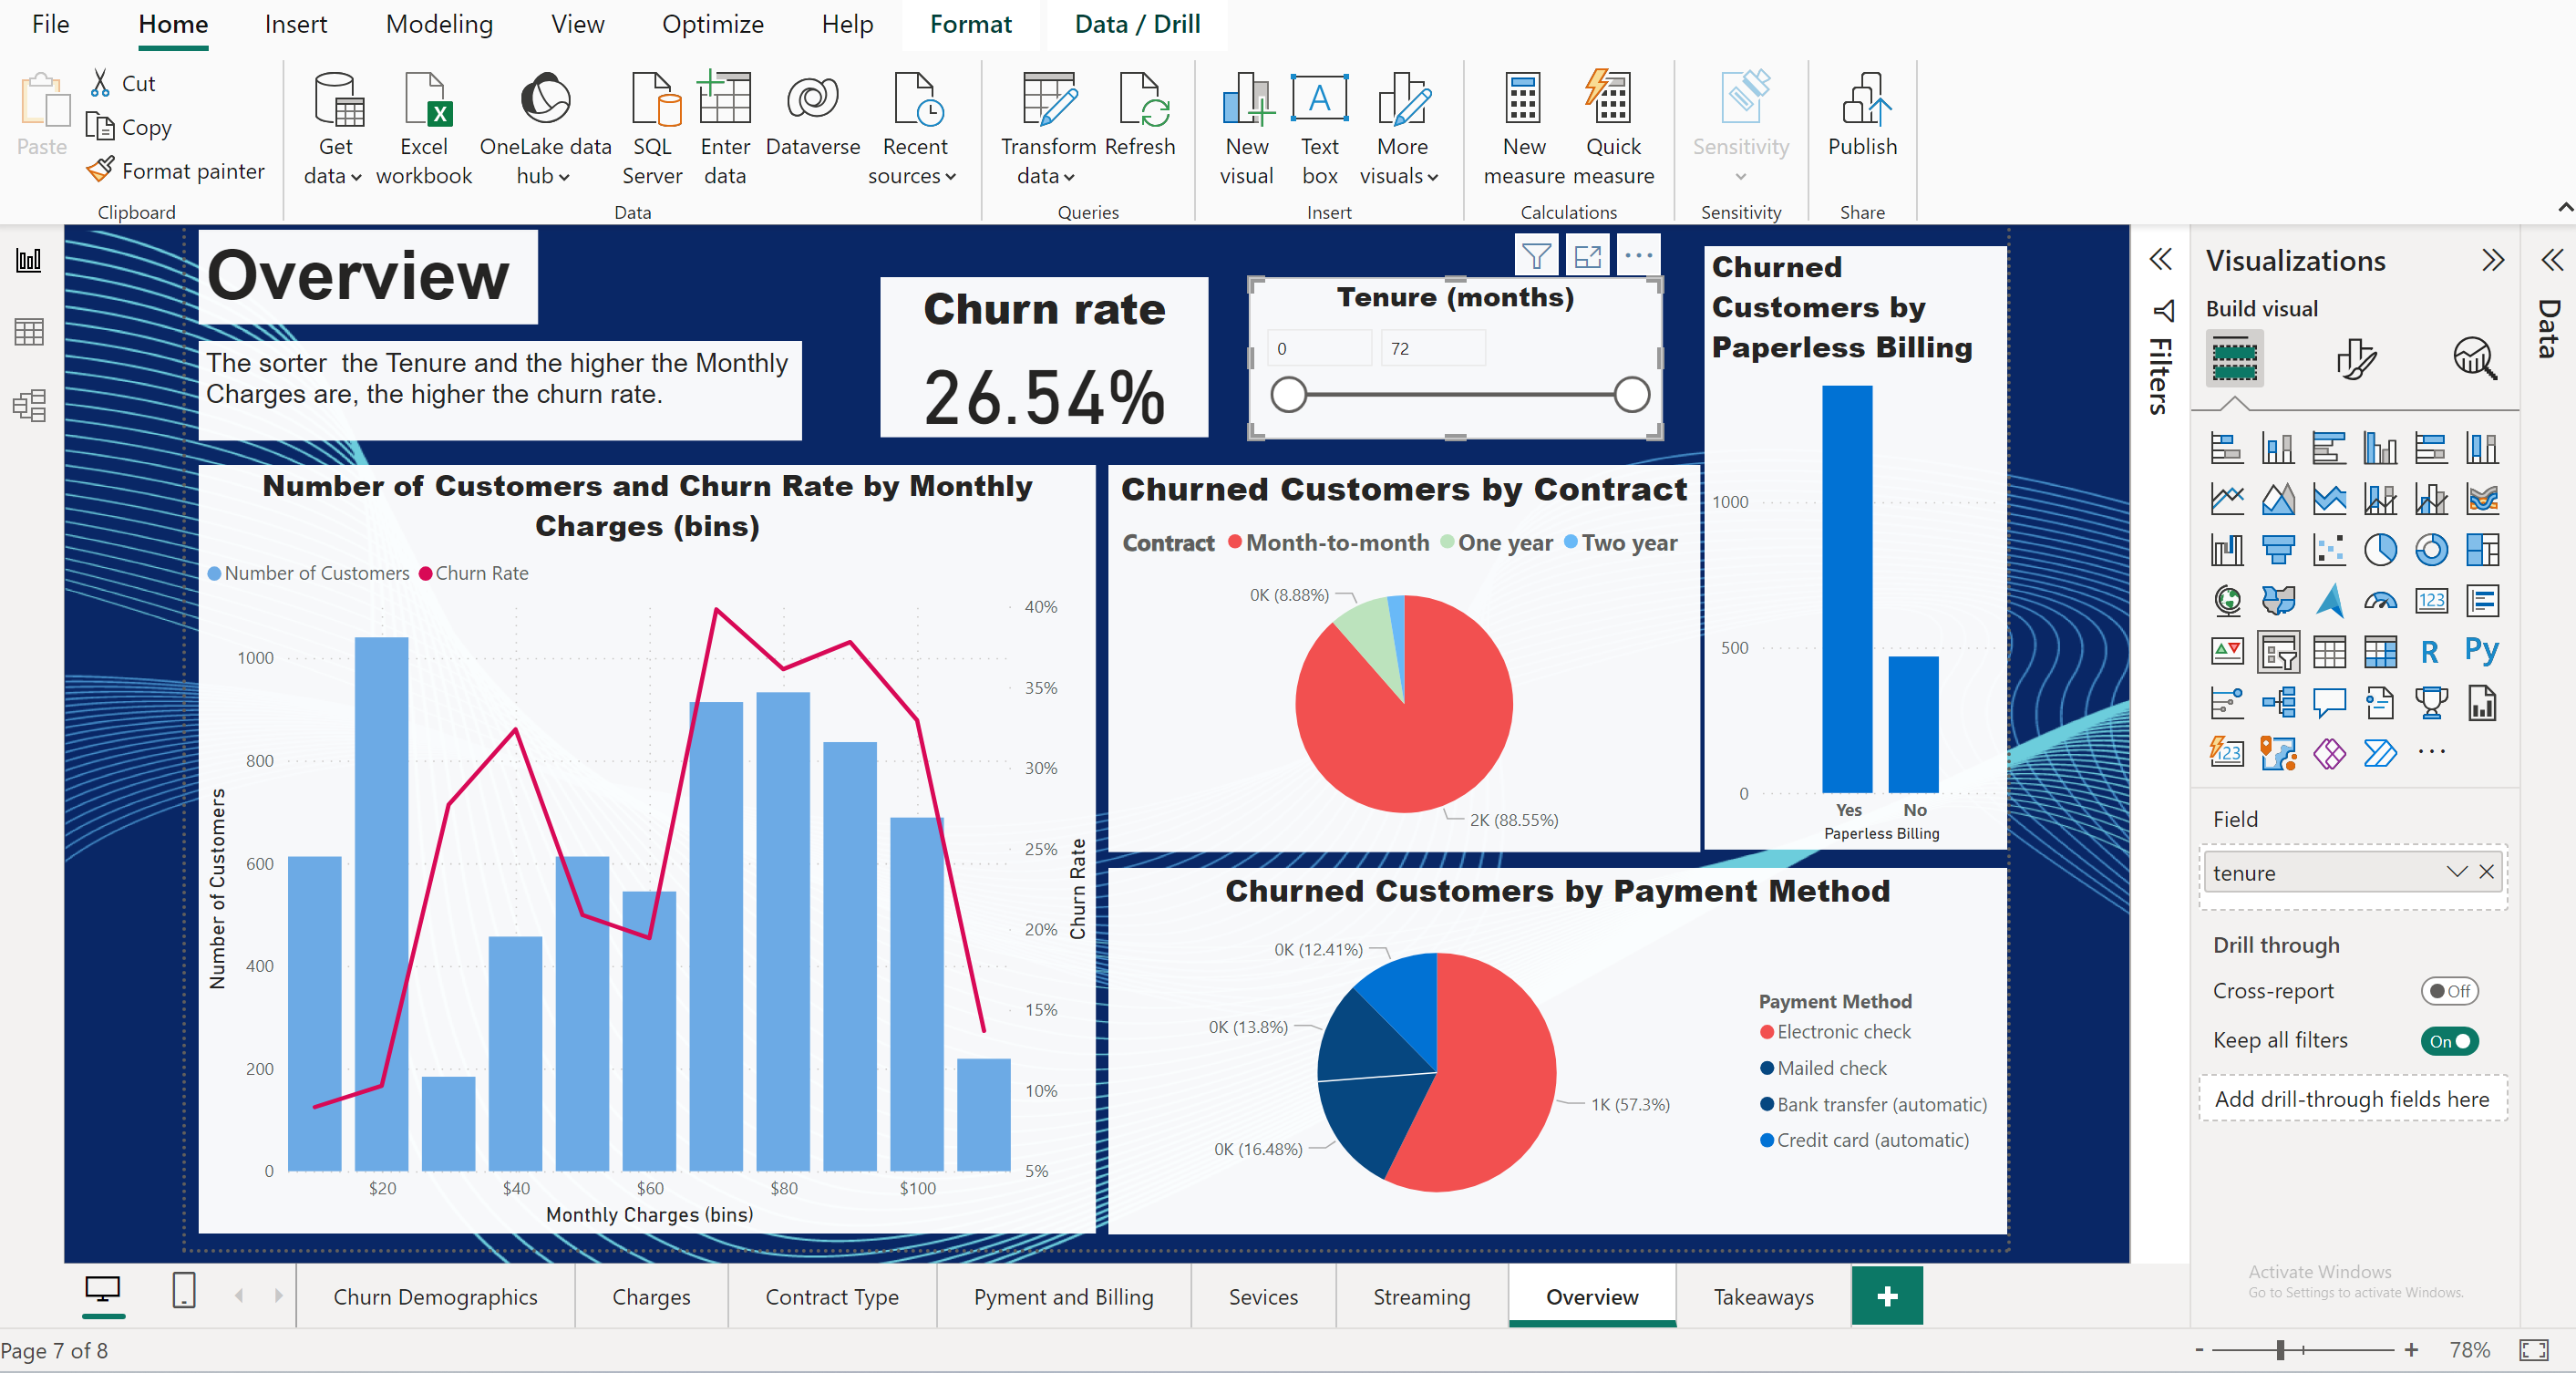

What the dashboard file says about the page in this screenshot:
{"tool":"powerbi","page":{"name":"Overview","canvas":[1280,720],"ordinal":7},"visuals":[{"type":"card","title":"Churn rate","fields":{"Values":["Churn Customer.Churn Rate"]},"box":[488.1,37.2,230.6,112.7],"z":0},{"type":"lineStackedColumnComboChart","fields":{"Category":["Churn Customer.Monthly Charges (bins)"],"Y":["Churn Customer.Number of Customers"],"Y2":["Churn Customer.Churn Rate"]},"box":[9.3,169.3,630.7,540],"z":1000},{"type":"slicer","title":"Tenure (months)","fields":{"Values":["Churn Customer.tenure"]},"box":[746.9,37.2,290.8,114],"z":2000},{"type":"pieChart","title":"Churned Customers by Contract","fields":{"Category":["Churn Customer.Contract"],"Y":["Churn Customer.Number of Customers"]},"box":[648,169.3,416,272],"z":3000},{"type":"columnChart","title":"Churned Customers by Paperless Billing","fields":{"Category":["Churn Customer.Paperless Billing"],"Y":["Churn Customer.Number of Customers"]},"box":[1066.7,16,213.3,424],"z":4000},{"type":"pieChart","title":"Churned Customers by Payment Method","fields":{"Category":["Churn Customer.Payment Method"],"Y":["Churn Customer.Number of Customers"]},"box":[648,452,632,257.3],"z":5000},{"type":"textbox","box":[9,3.8,238.3,66.6],"z":6000},{"type":"textbox","box":[9.1,81.7,424.1,70],"z":6001}]}

Visuals, with their boxes on the page's 1280x720 design canvas (x1, y1, x2, y2). These are canvas units, not pixel positions in the 2576x1373 screenshot, which may show the page scaled, cropped or inside an application window:
"Churn rate" card: region(488, 37, 719, 150)
lineStackedColumnComboChart - Churn Customer.Monthly Charges (bins) x Churn Customer.Number of Customers: region(9, 169, 640, 709)
"Tenure (months)" slicer: region(747, 37, 1038, 151)
"Churned Customers by Contract" pieChart: region(648, 169, 1064, 441)
"Churned Customers by Paperless Billing" columnChart: region(1067, 16, 1280, 440)
"Churned Customers by Payment Method" pieChart: region(648, 452, 1280, 709)
textbox: region(9, 4, 247, 70)
textbox: region(9, 82, 433, 152)
